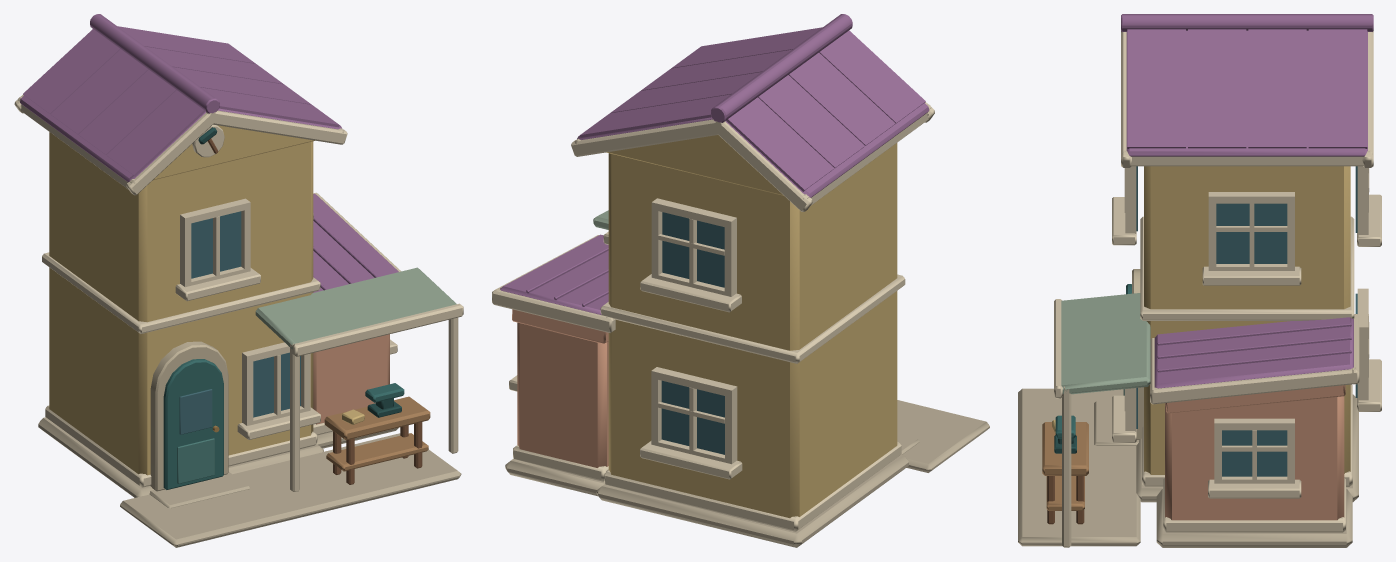
File: workshop_level_3.glb
3 views of the same model, side by side, from view 1: azimuth 30°, elevation 25°; view 2: azimuth 150°, elevation 25°; view 3: azimuth 270°, elevation 25° (orthographic). The views are drawn at different scales.
Parts seen in each view (by area): view 1: workshop_level_3_runtime; view 2: workshop_level_3_runtime; view 3: workshop_level_3_runtime.
Part boxes in pixels (box(x1,y1,x2,y2)): workshop_level_3_runtime: box(14, 14, 463, 547); workshop_level_3_runtime: box(492, 14, 989, 547); workshop_level_3_runtime: box(1018, 14, 1381, 547).
Size of the model in its own units: 4.25 by 5.14 by 3.98.
